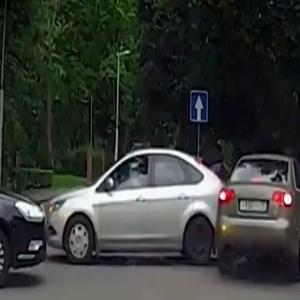low_impact: (44, 138, 300, 281)
